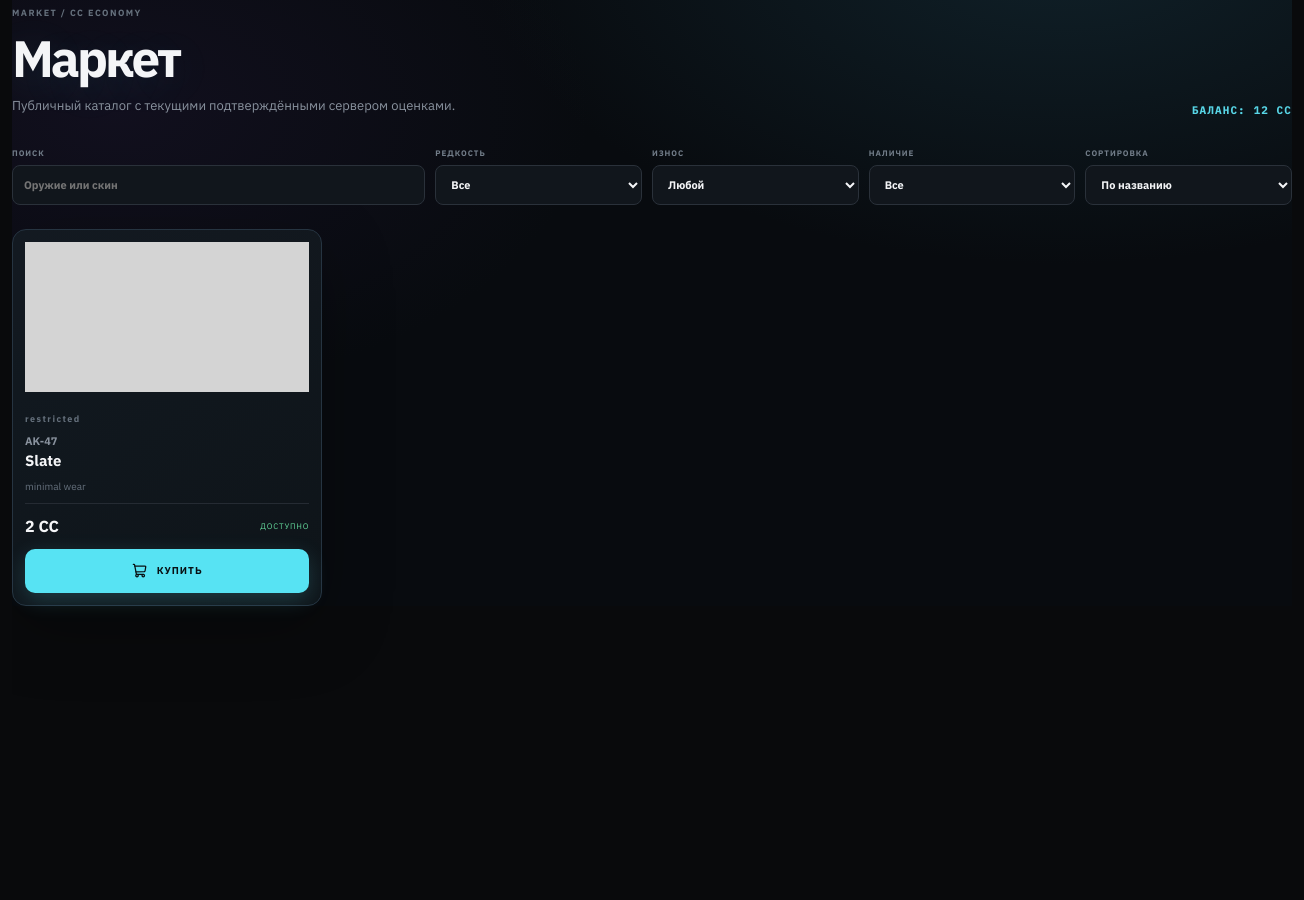
Test: uses one idempotency key while a purchase is retried and refreshes balance and inventory after confirmation
What coordinates should you click on to do the following:
click the button with aria-label "Купить AK-47 | Slate за 2 CC"
I would click on:
 (167, 571)
Its box is [25,549,309,593].
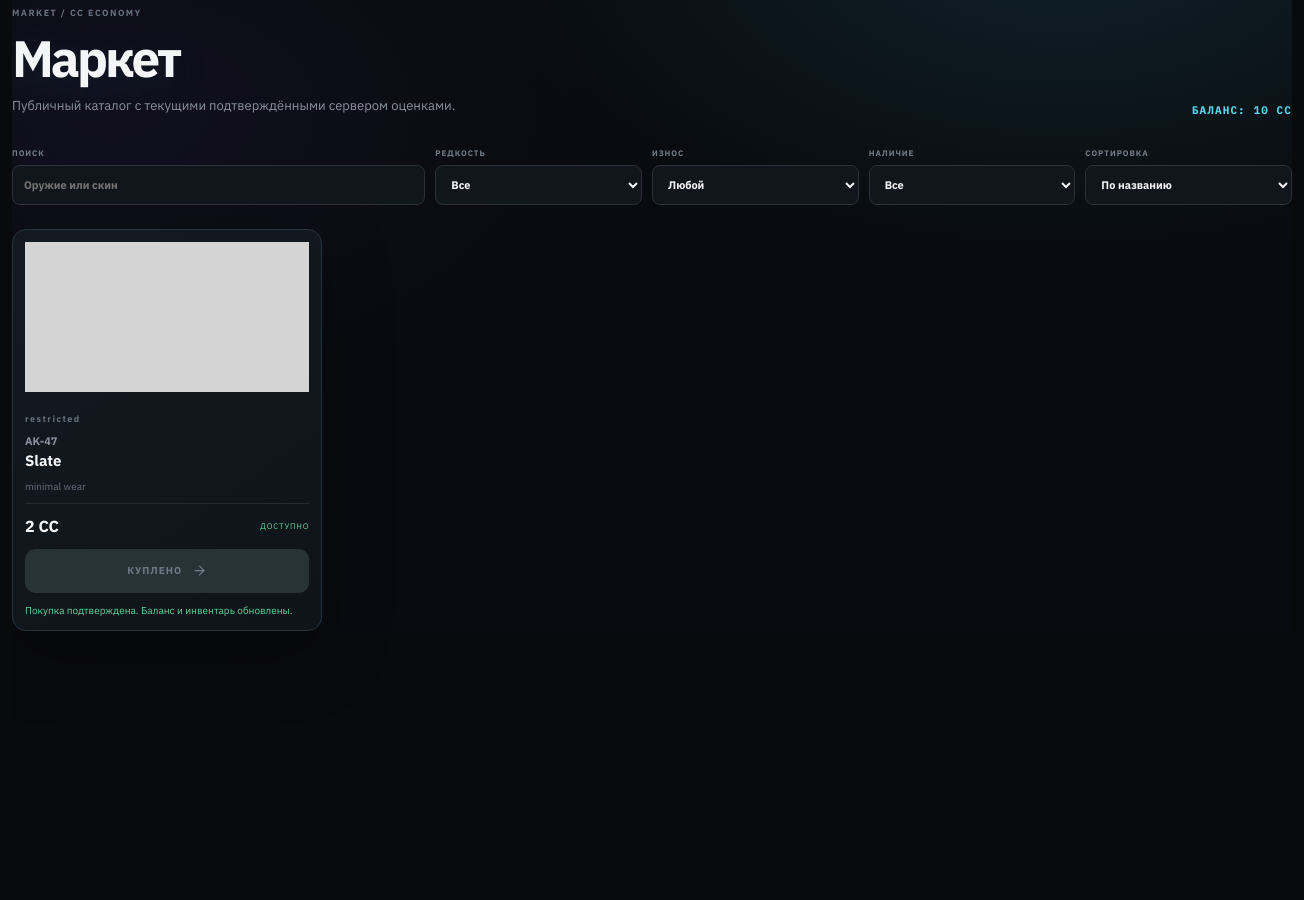
Expected: the text "Покупка подтверждена. Баланс и инвентарь обновлены." is shown, [25,603,309,618]
